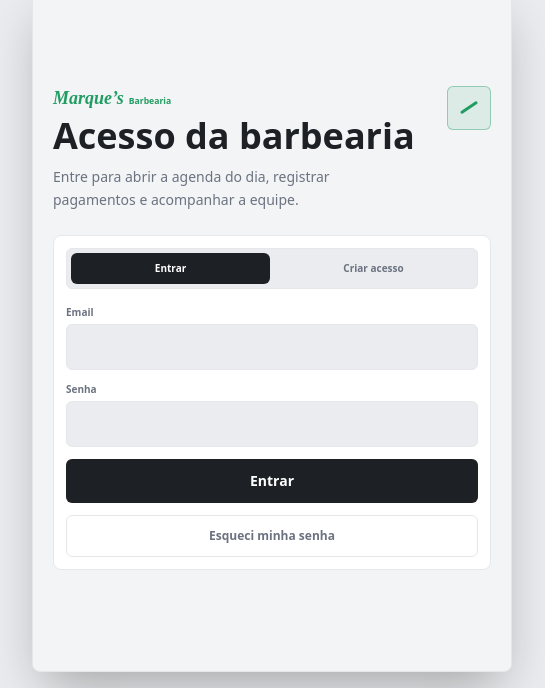
Scenario: LoginPage signup feedback › does not expose verification codes returned by the backend
Click the button "Criar acesso".
click(374, 269)  # box [274, 253, 473, 284]
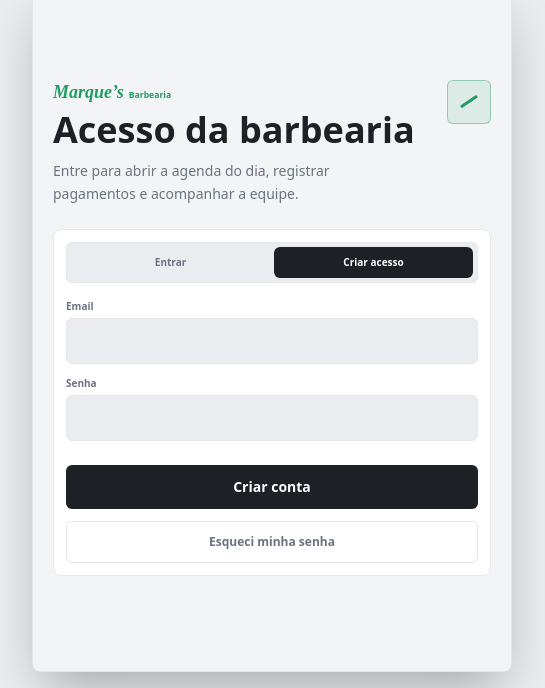
Type "cliente@example.com" into the field.
click(272, 341); type("cliente@example.com")  # box [66, 318, 478, 364]
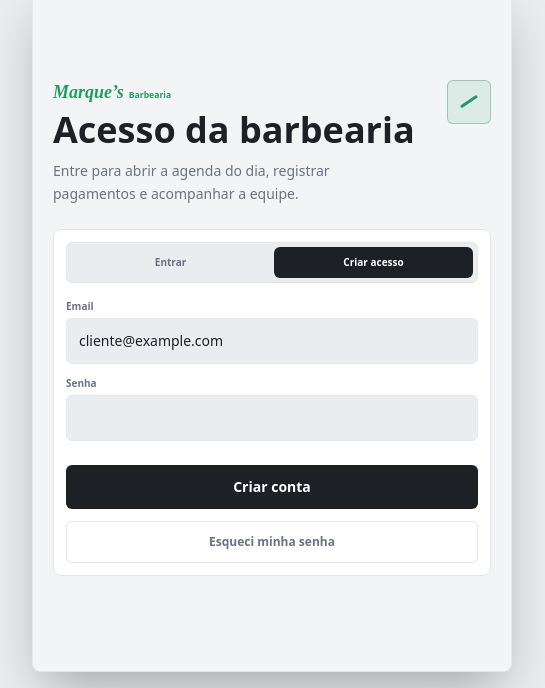
Type "SenhaTeste123" into the password field.
click(272, 418); type("SenhaTeste123")  # box [66, 395, 478, 441]
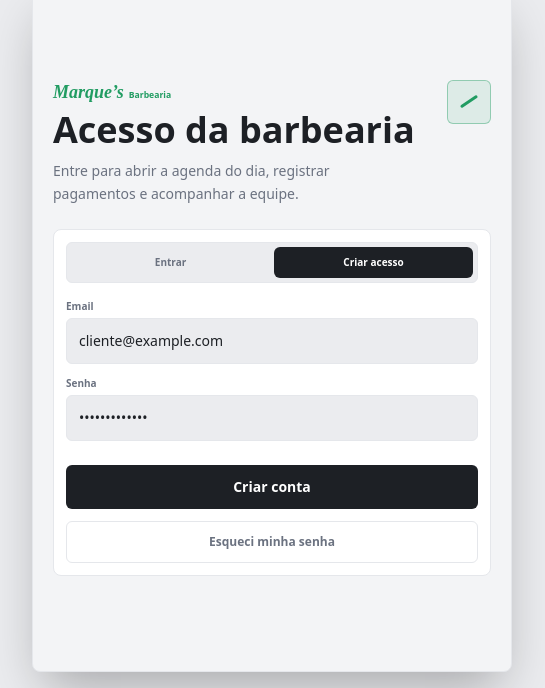
Click the button "Criar conta".
click(272, 487)  # box [66, 465, 478, 509]
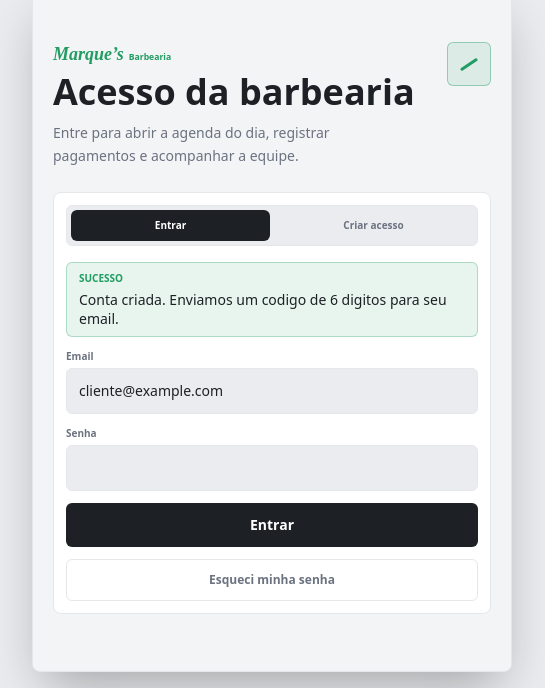
Expected: the link "Esqueci minha senha" is shown, [66, 559, 478, 601]
Result: the text "Conta criada. Enviamos um codigo de 6 digitos para seu email." is shown at [79, 290, 465, 328]
